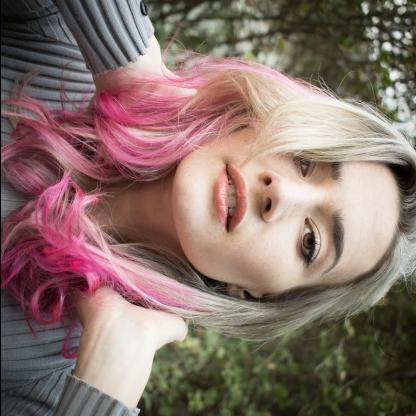Eye: (295, 215, 320, 267), (291, 154, 315, 179)
Mouth: (213, 161, 247, 233)
Nose: (258, 170, 315, 222)
